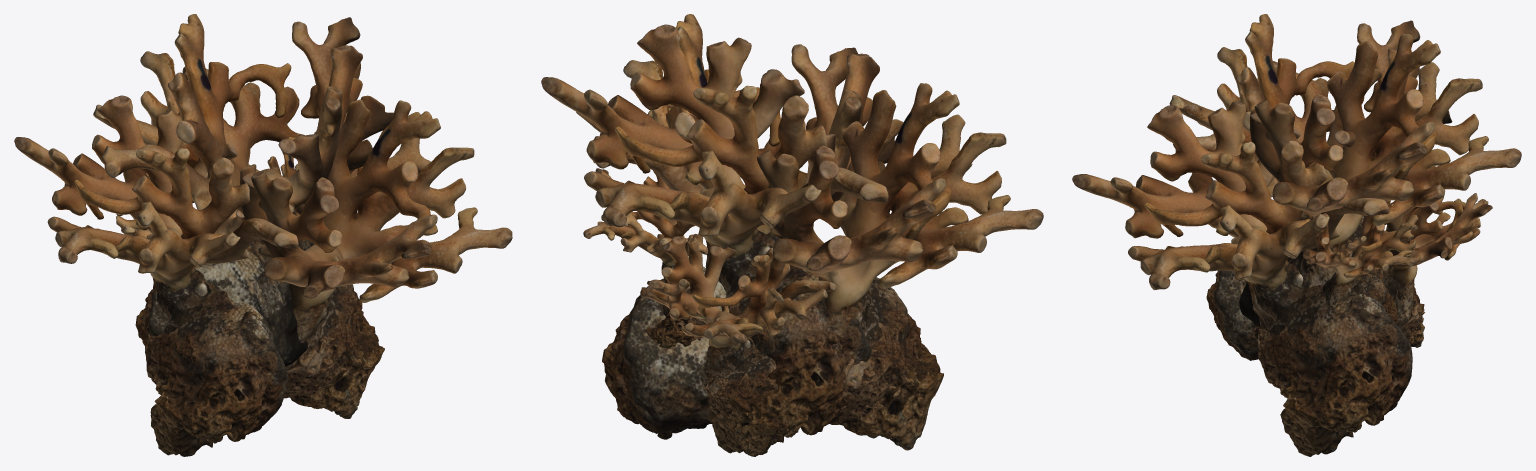
File: coralbunch1.glb
3 views of the same model, side by side, from view 1: azimuth 30°, elevation 25°; view 2: azimuth 150°, elevation 25°; view 3: azimuth 270°, elevation 25° (orthographic). The views are drawn at different scales.
Visible parts, largest first — view 1: Mesh_0.002, Mesh_0.001, Mesh_0, Mesh_0.003, Mesh_0.004; view 2: Mesh_0, Mesh_0.002, Mesh_0.001, Mesh_0.003, Mesh_0.004; view 3: Mesh_0.001, Mesh_0, Mesh_0.002, Mesh_0.004, Mesh_0.003.
Part boxes in pixels (x1=…): Mesh_0.002: x1=14, y1=95, x2=298, y2=456; Mesh_0.001: x1=240, y1=99, x2=512, y2=418; Mesh_0: x1=93, y1=14, x2=393, y2=366; Mesh_0.003: x1=116, y1=173, x2=245, y2=238; Mesh_0.004: x1=248, y1=133, x2=357, y2=250; Mesh_0: x1=541, y1=24, x2=888, y2=453; Mesh_0.002: x1=756, y1=83, x2=1043, y2=450; Mesh_0.001: x1=576, y1=14, x2=894, y2=439; Mesh_0.003: x1=640, y1=234, x2=836, y2=456; Mesh_0.004: x1=583, y1=168, x2=708, y2=348; Mesh_0.001: x1=1072, y1=101, x2=1412, y2=456; Mesh_0: x1=1239, y1=33, x2=1521, y2=340; Mesh_0.002: x1=1169, y1=14, x2=1452, y2=360; Mesh_0.004: x1=1302, y1=200, x2=1418, y2=324; Mesh_0.003: x1=1360, y1=165, x2=1492, y2=347.
Size of the model in its own units: 4.24 by 3.84 by 4.24.
5 materials, 5 textured.
